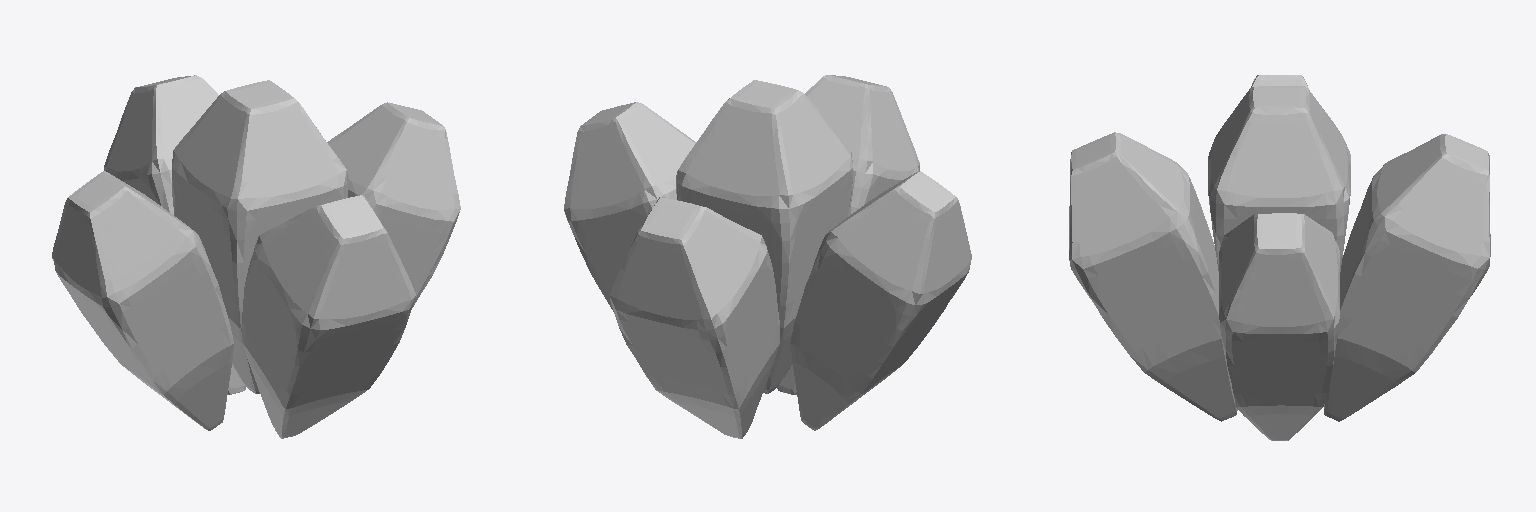
File: GeigerRemasteredPrefab.OBJ
3 views of the same model, side by side, from view 1: azimuth 30°, elevation 25°; view 2: azimuth 150°, elevation 25°; view 3: azimuth 270°, elevation 25° (orthographic).
Visible parts, largest first — view 1: Group22412.003, Group22412.002, Group22412, Group22412.001, Group22412.004; view 2: Group22412.004, Group22412.002, Group22412, Group22412.001, Group22412.003; view 3: Group22412.003, Group22412.004, Group22412.001, Group22412, Group22412.002.
Boxes of the visible parts, <box> form: Group22412.003: <box>242,195,415,438</box>; Group22412.002: <box>52,171,233,430</box>; Group22412: <box>172,80,347,393</box>; Group22412.001: <box>327,102,460,307</box>; Group22412.004: <box>104,75,245,394</box>; Group22412.004: <box>610,197,779,438</box>; Group22412.002: <box>790,171,971,430</box>; Group22412: <box>676,80,852,393</box>; Group22412.001: <box>564,102,696,311</box>; Group22412.003: <box>777,75,919,394</box>; Group22412.003: <box>1069,132,1237,421</box>; Group22412.004: <box>1324,134,1490,421</box>; Group22412.001: <box>1219,213,1339,440</box>; Group22412: <box>1208,86,1350,271</box>; Group22412.002: <box>1251,75,1308,88</box>.
Bounding box in the file's own units: 4.52 × 3.89 × 4.62.